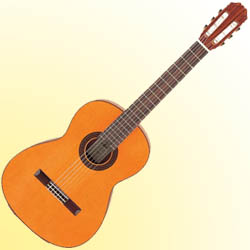guitar: (1, 2, 249, 247)
